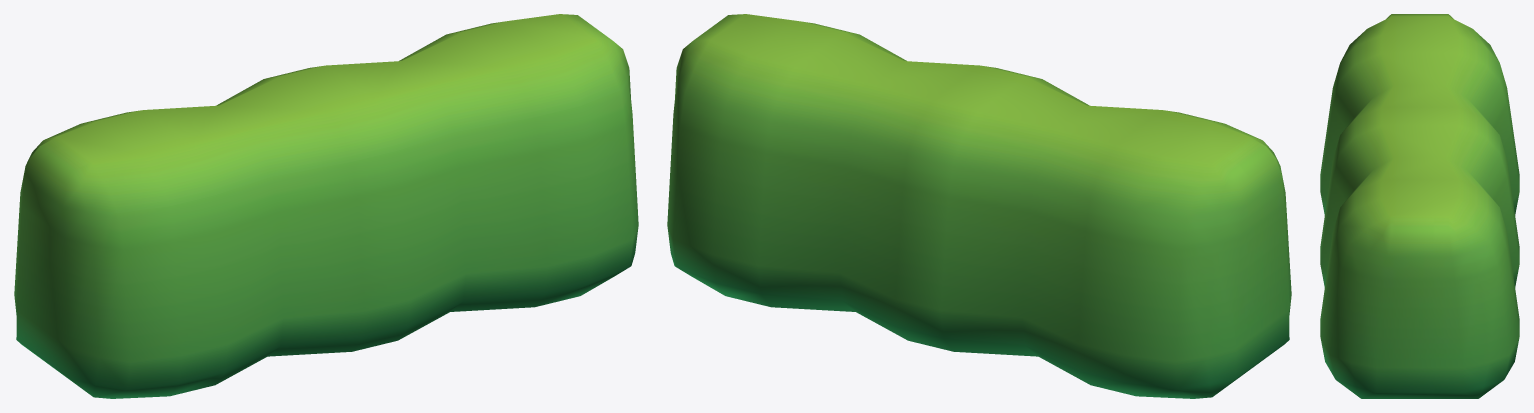
The model's file is prop_park_hedge_straight_long.glb.
The picture shows the model from 3 angles, left to right: view 1: azimuth 30°, elevation 25°; view 2: azimuth 150°, elevation 25°; view 3: azimuth 270°, elevation 25°; orthographic projection. The views are drawn at different scales.
Visible parts, largest first — view 1: hedge_straight_long; view 2: hedge_straight_long; view 3: hedge_straight_long.
Part boxes in pixels (<box>): hedge_straight_long: <box>14,14,638,398</box>; hedge_straight_long: <box>667,14,1291,398</box>; hedge_straight_long: <box>1320,14,1519,398</box>.
Bounding box in the file's own units: 4 × 1.5 × 1.5.
1 material, 1 textured.
